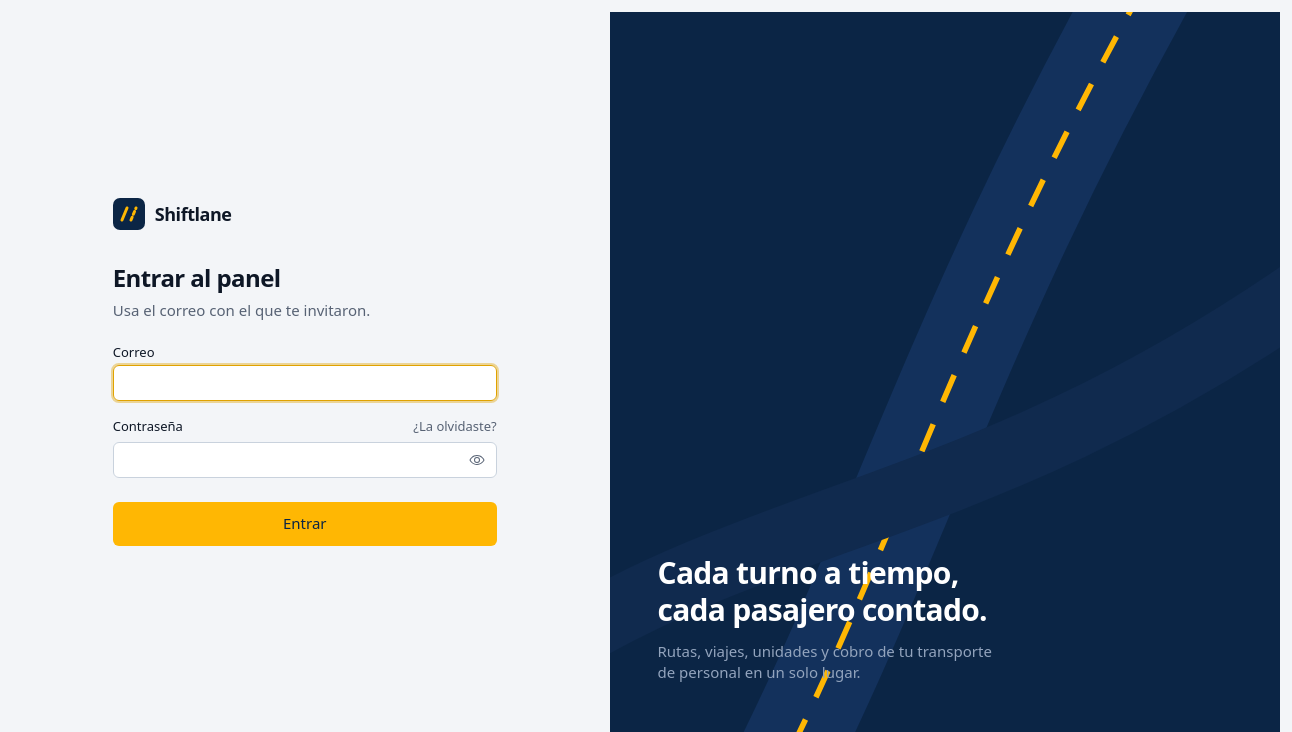
Test: acceso al panel › entra, ve las secciones de su rol y vuelve a donde iba
The image size is (1292, 732).
Type "luis@transportes.mx" into the field labelled "Correo" at (305, 383), box [113, 365, 497, 401]
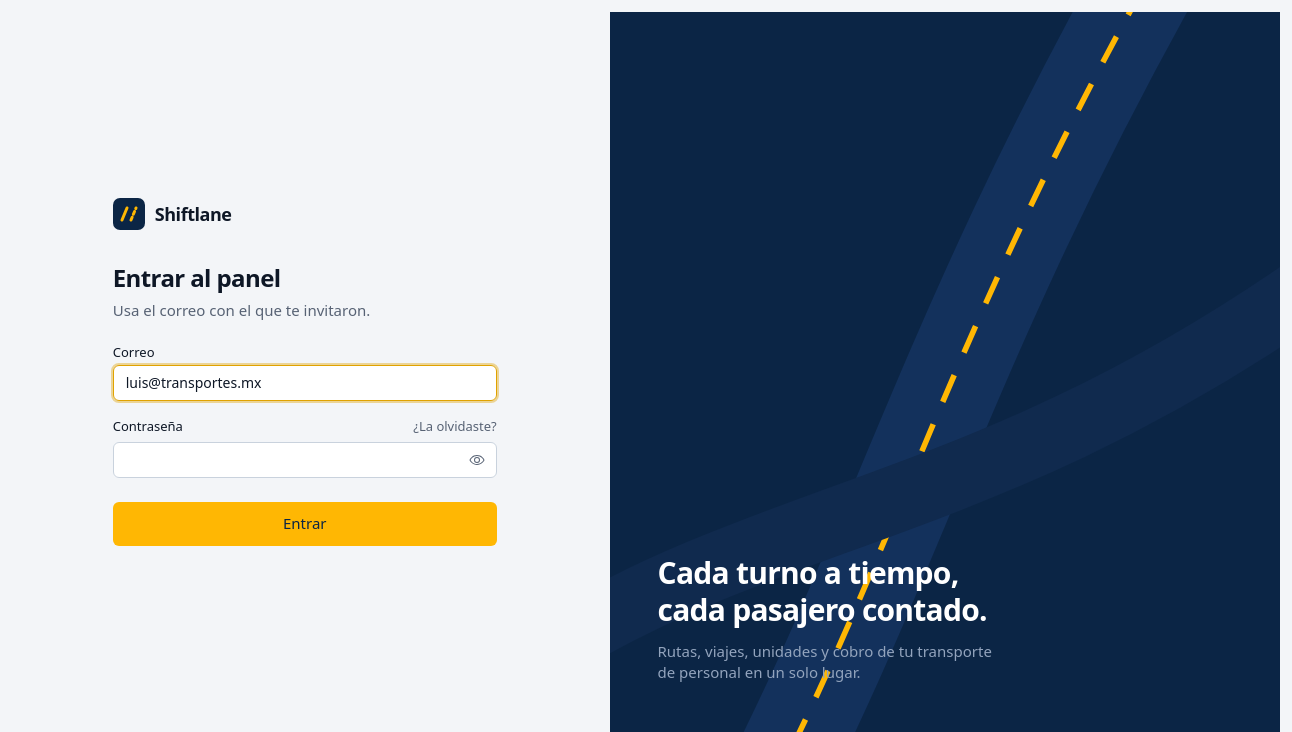
Type "Secreta-123456" into the password field labelled "Contraseña" at (305, 460), box [113, 442, 497, 478]
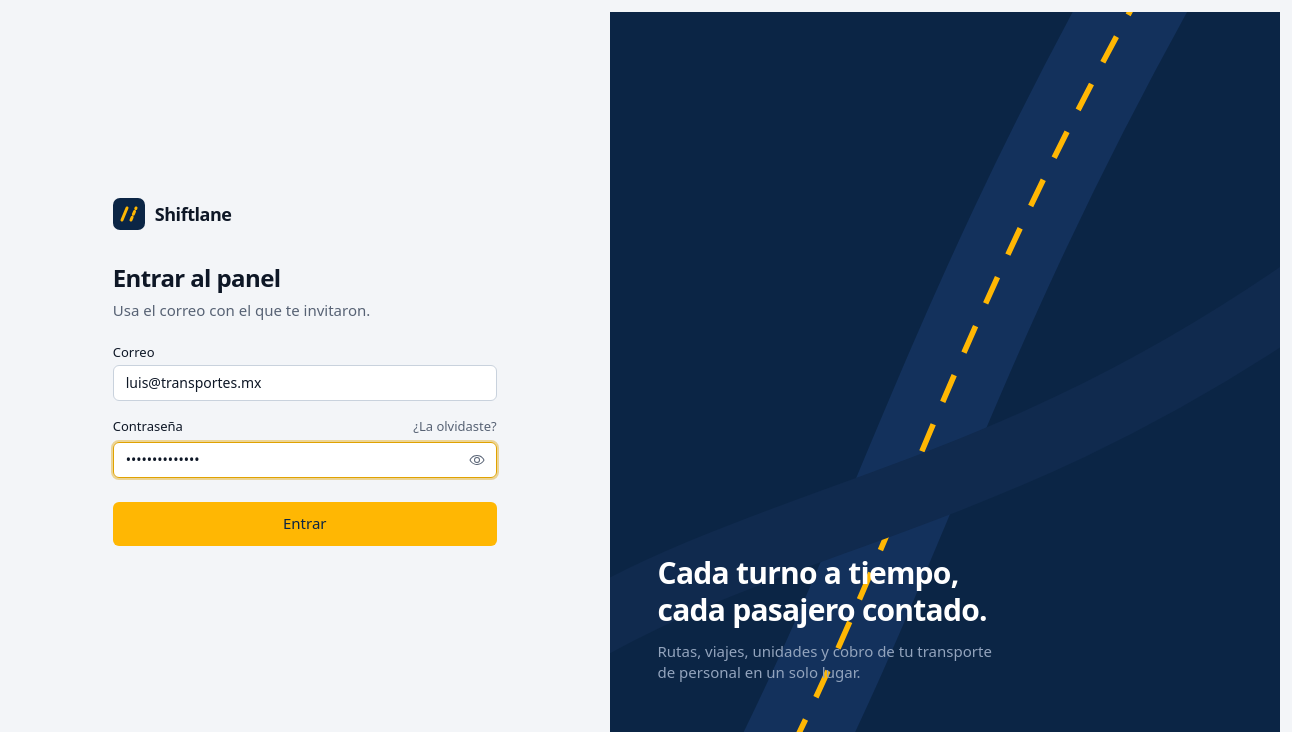
Click the button "Entrar" at (305, 524), box [113, 502, 497, 546]
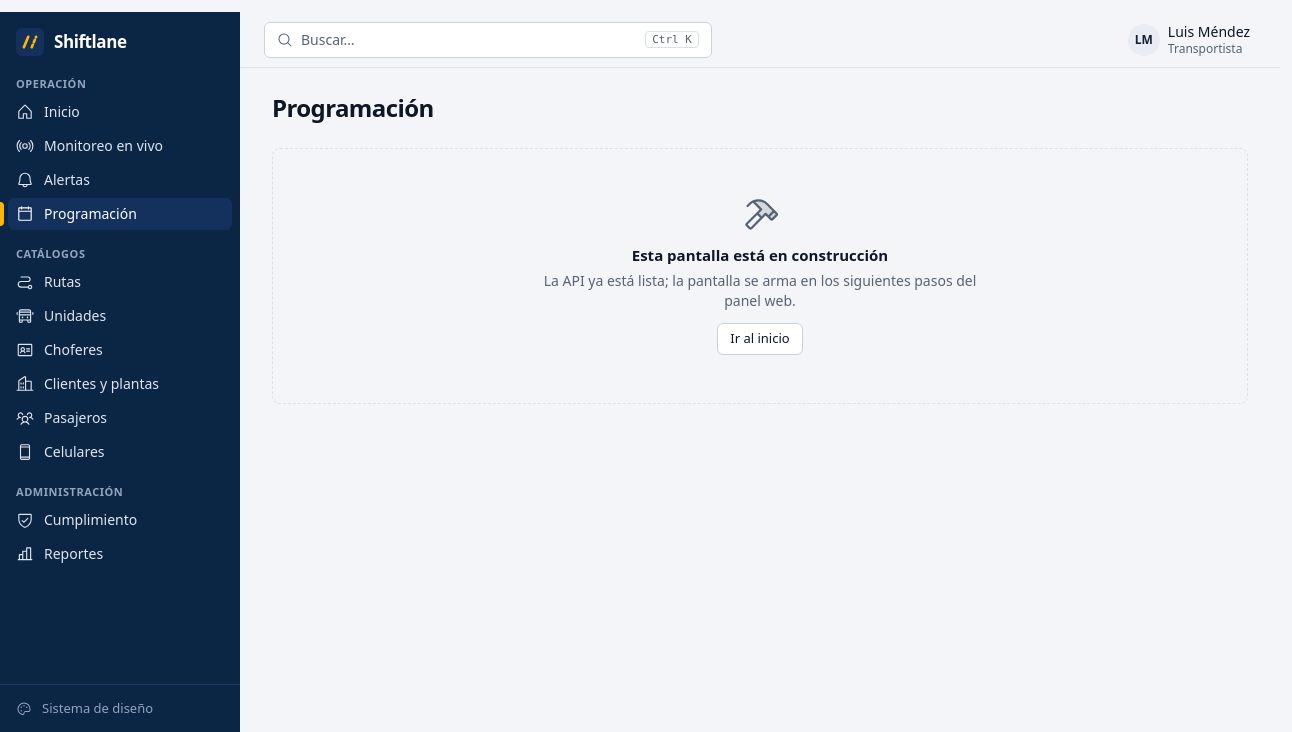
Expected: the heading "Programación" is shown, [272, 92, 434, 124]
Expected: the link "Monitoreo en vivo" is shown, [16, 136, 163, 155]
